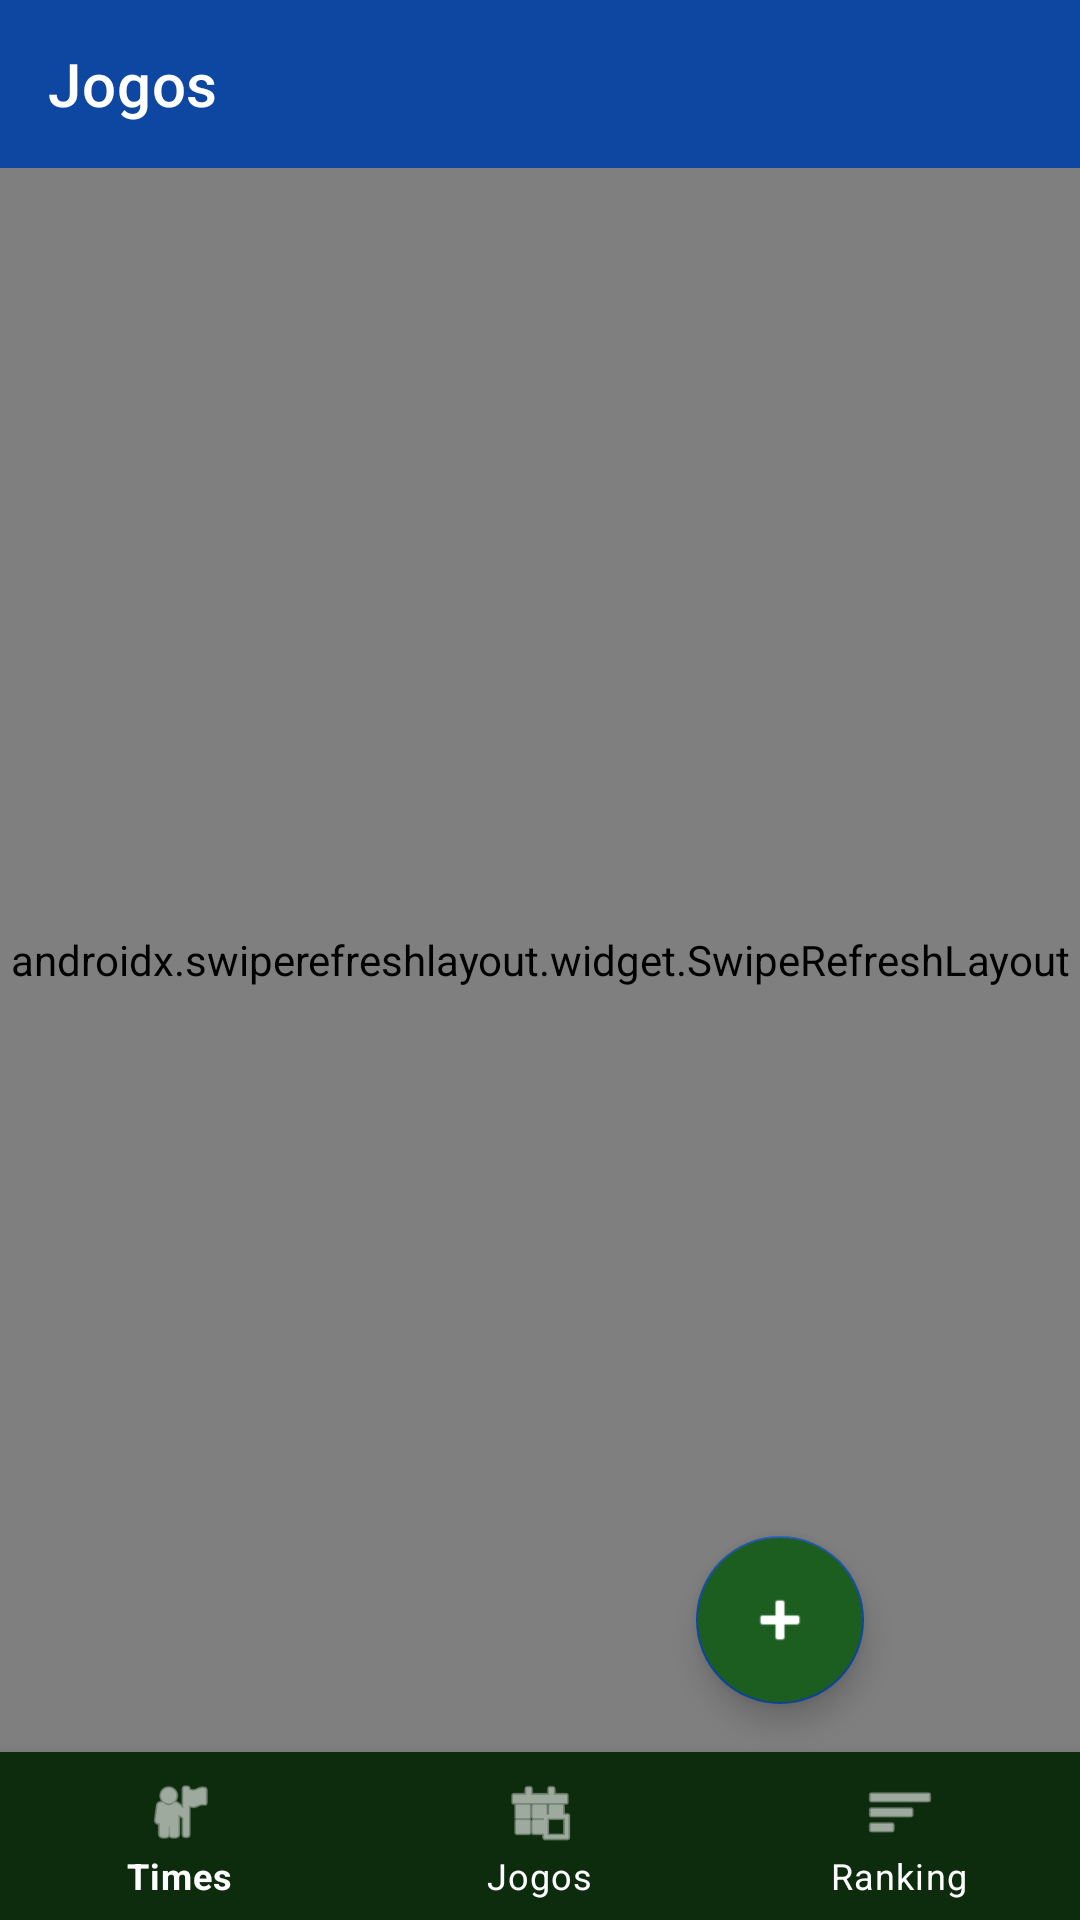

Named icons in this screenshot (1080px x 1920px) and their bounding boxes, {"left": x1, "top": y1, "right": x2, "bottom": y2}:
Adicionar Jogo: {"left": 696, "top": 1536, "right": 864, "bottom": 1704}
